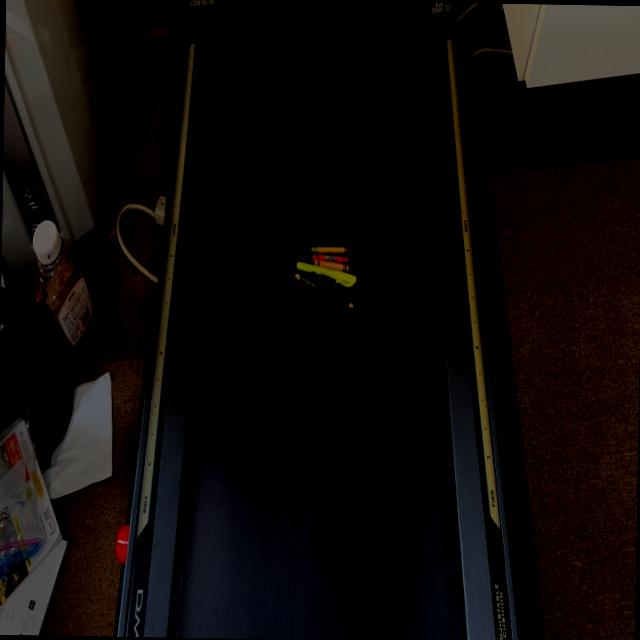Trash: (295, 228, 360, 314)
